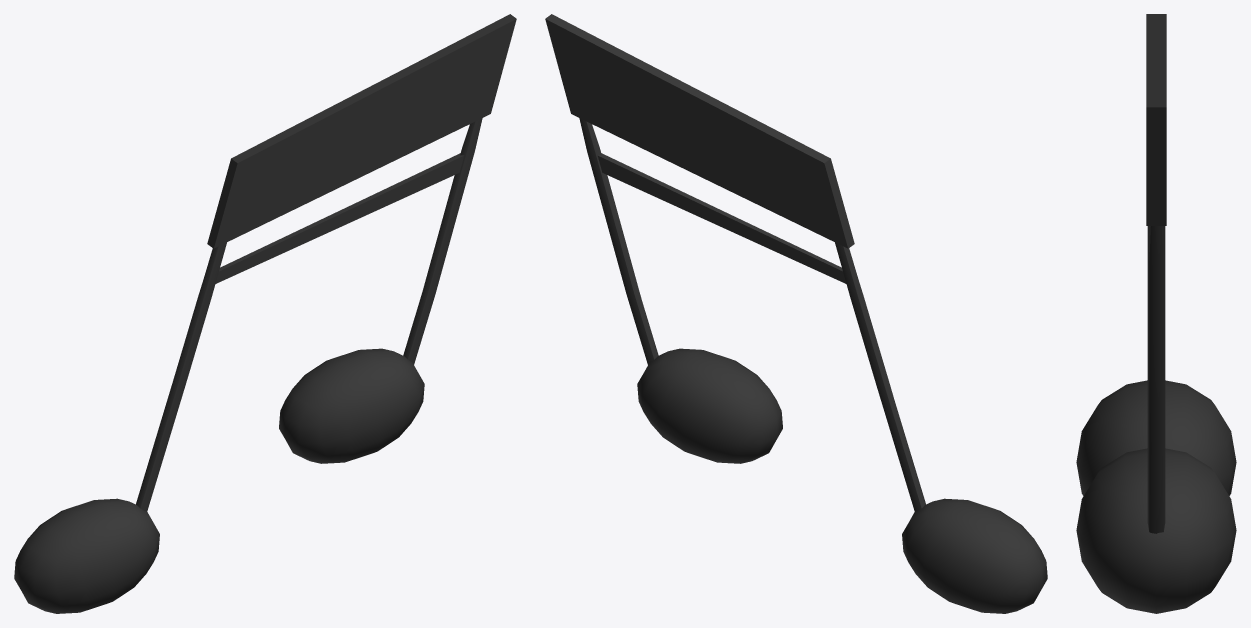
Rendered from note2.fbx.
3 views of the same model, side by side, from view 1: azimuth 30°, elevation 25°; view 2: azimuth 150°, elevation 25°; view 3: azimuth 270°, elevation 25° (orthographic). The views are drawn at different scales.
Parts seen in each view (by area): view 1: pCube6; view 2: pCube6; view 3: pCube6.
Part boxes in pixels (x1,y1,x2,y2): pCube6: (14, 14, 516, 613); pCube6: (545, 14, 1047, 613); pCube6: (1076, 14, 1236, 613).
Bounding box in the file's own units: 6.48 × 6.08 × 1.17.
Materials: 2 (2 with a texture image).
